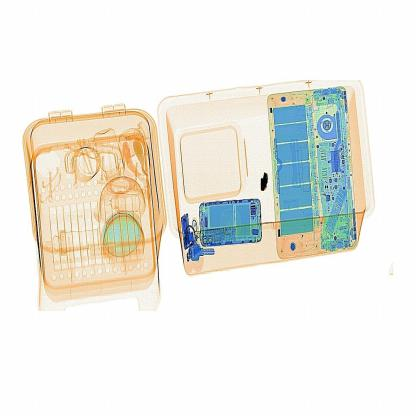knife: (257, 165, 284, 202)
